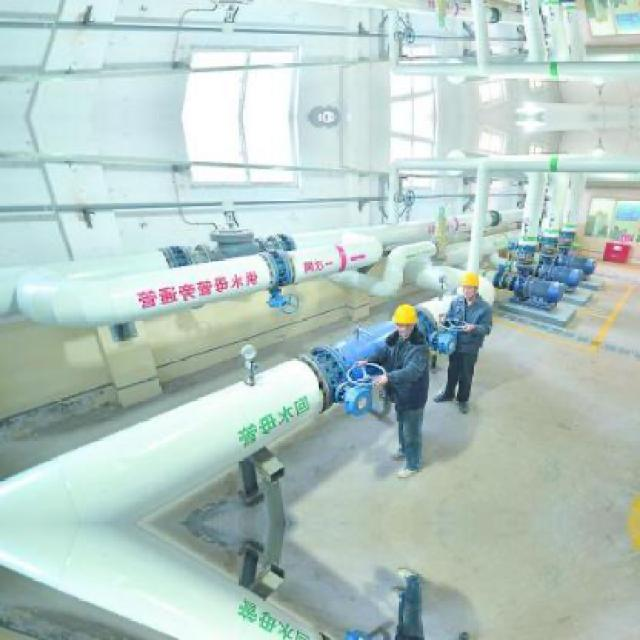con casco: (372, 288, 426, 348), (448, 262, 514, 300)
